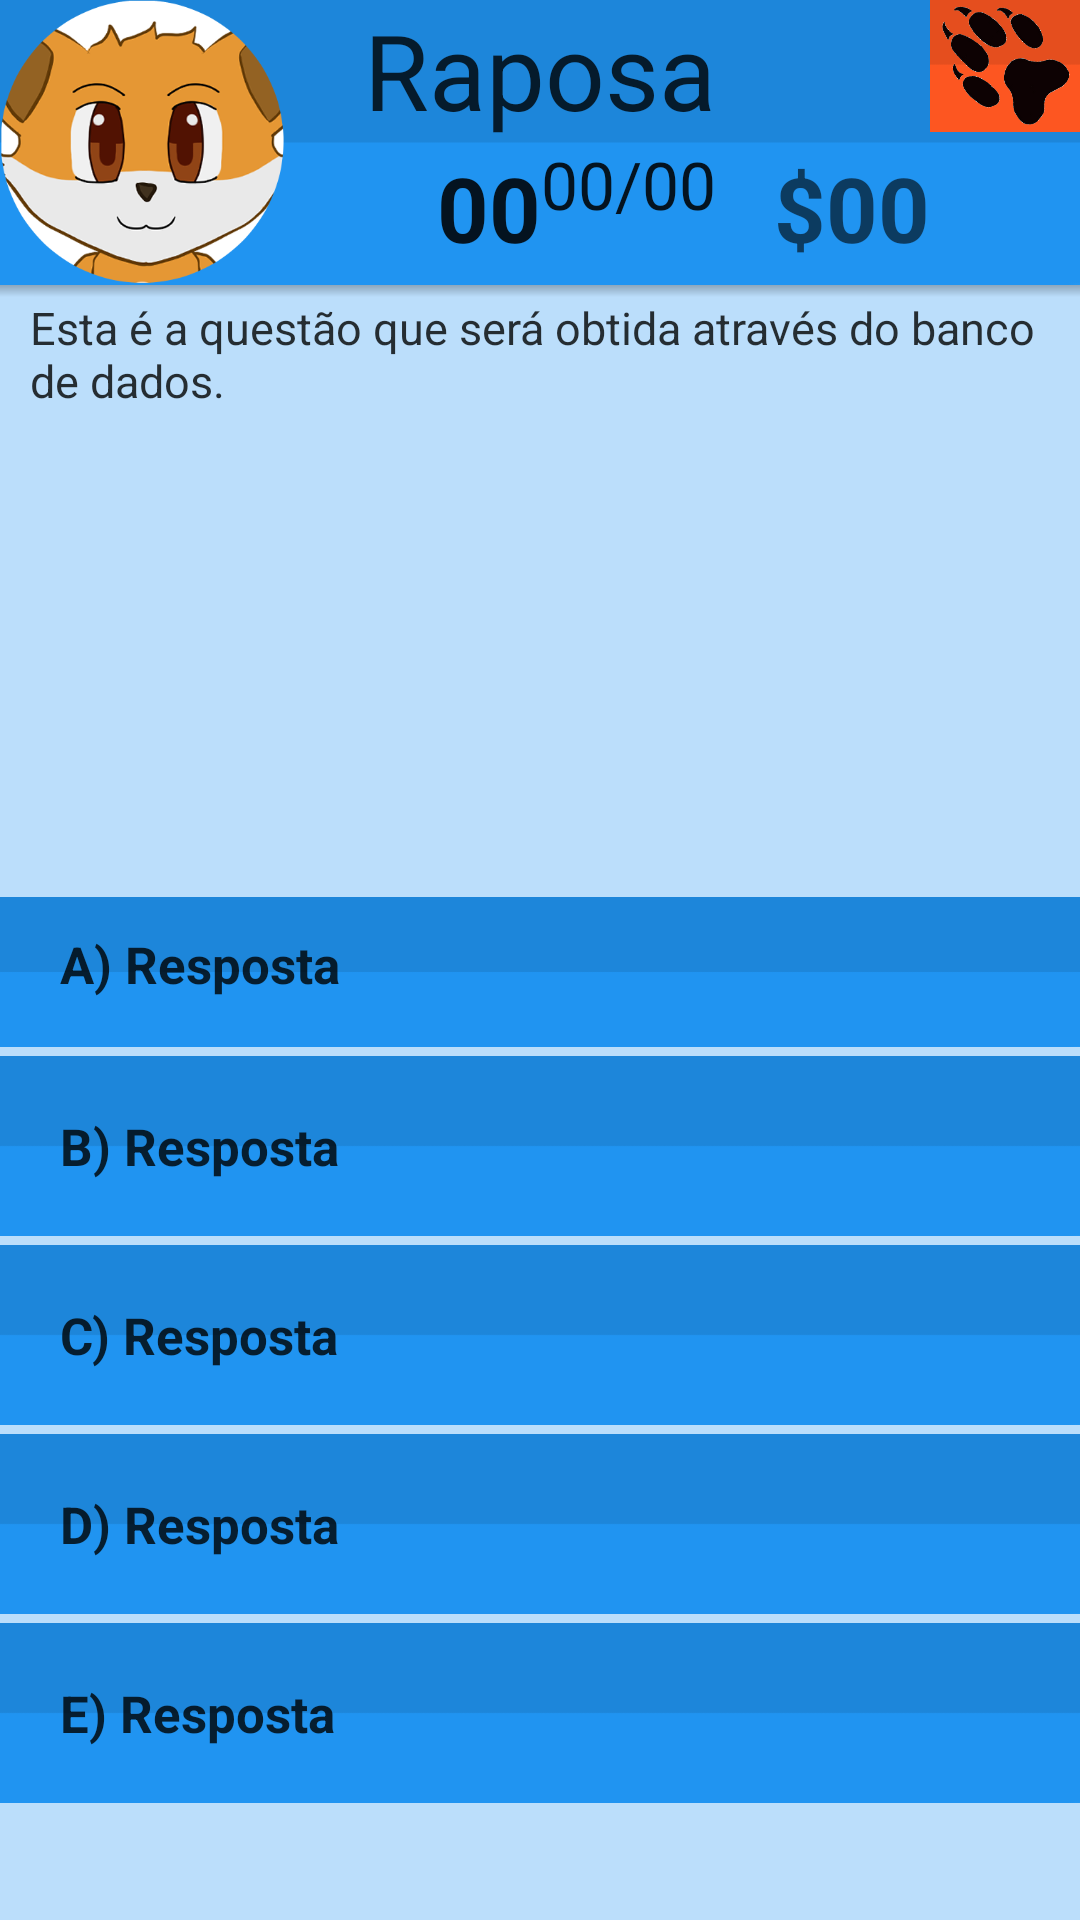

Where icons sit on this 1080w x 1920h app screen, as (x1, y1, x2, y2):
foxpaw: (930, 0, 1080, 132)
